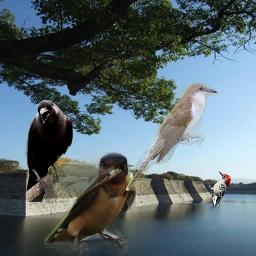Crow: (25, 100, 73, 202)
Cuckoo: (126, 83, 219, 191)
Swallow: (44, 152, 136, 256)
Woodpecker: (204, 170, 232, 211)
